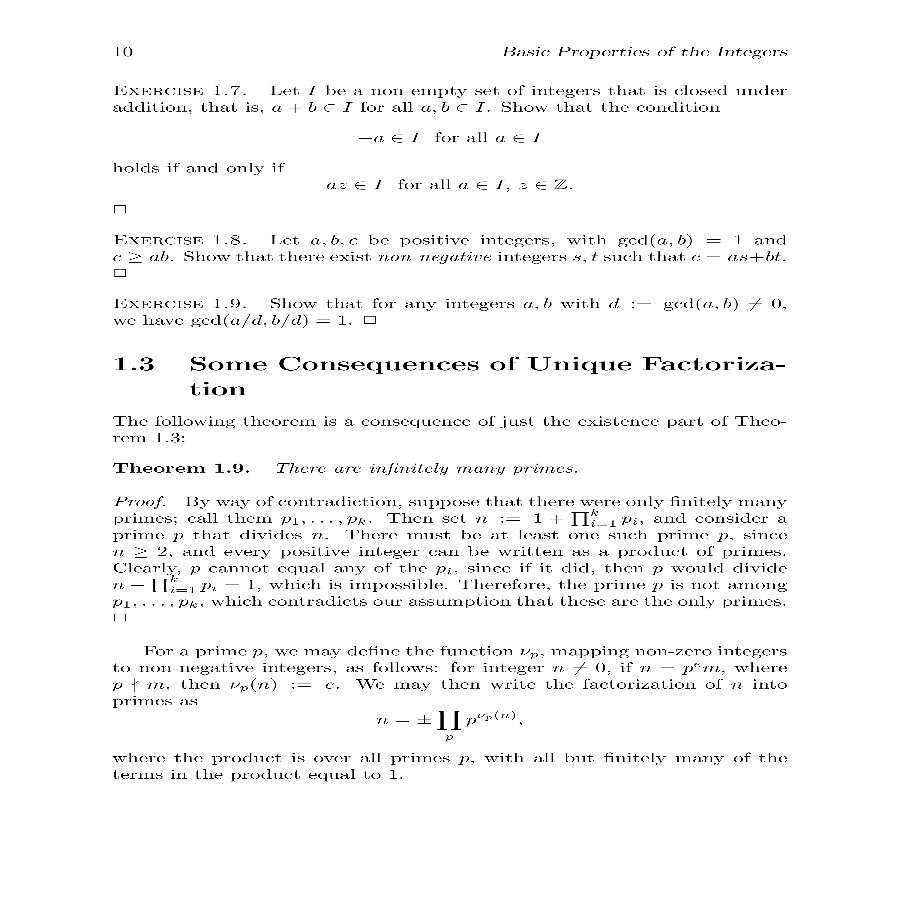eq: (323, 170, 568, 193), (374, 709, 531, 740), (355, 127, 543, 147)
